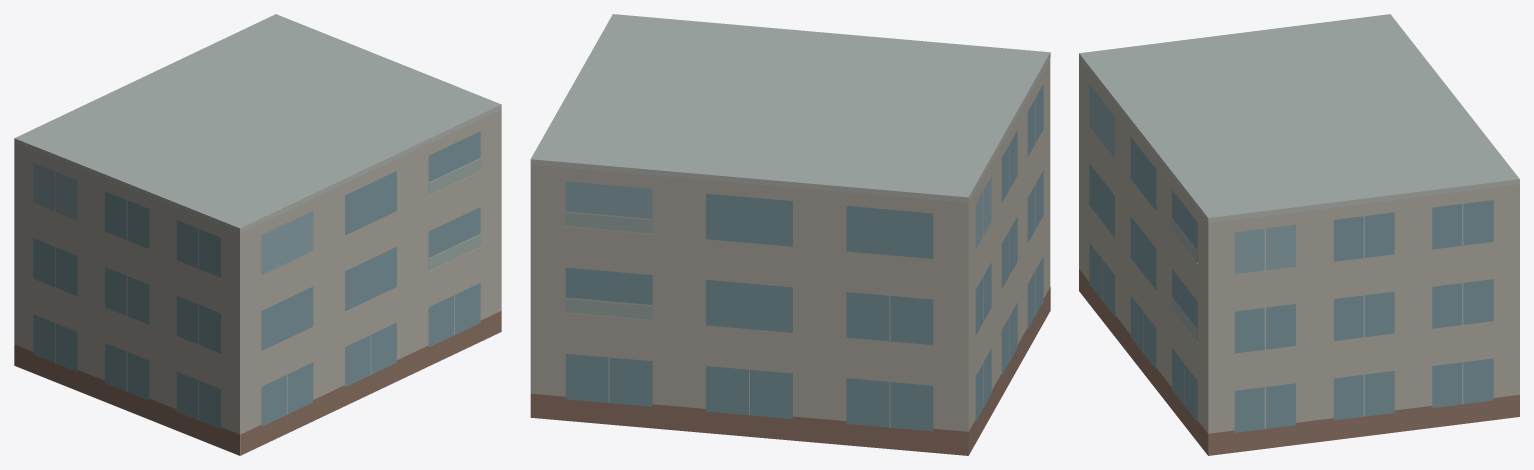
File: survey-upis-32766830.glb
3 renders of one model, left to right at view 1: azimuth 30°, elevation 25°; view 2: azimuth 150°, elevation 25°; view 3: azimuth 270°, elevation 25°, orthographic. The views are drawn at different scales.
Parts seen in each view (by area): view 1: survey-upis-32766830.tmp; view 2: survey-upis-32766830.tmp; view 3: survey-upis-32766830.tmp.
Part boxes in pixels (left/top/right/bottom): survey-upis-32766830.tmp: left=14, top=14, right=501, bottom=455; survey-upis-32766830.tmp: left=530, top=14, right=1050, bottom=455; survey-upis-32766830.tmp: left=1079, top=14, right=1519, bottom=455.
Bounding box in the file's own units: 21.36 × 11.6 × 19.5.
